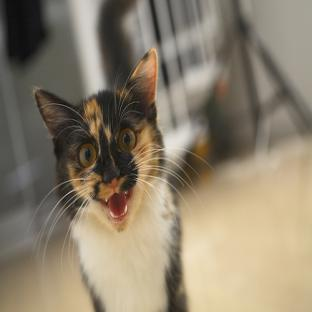Animal: (34, 48, 188, 311)
